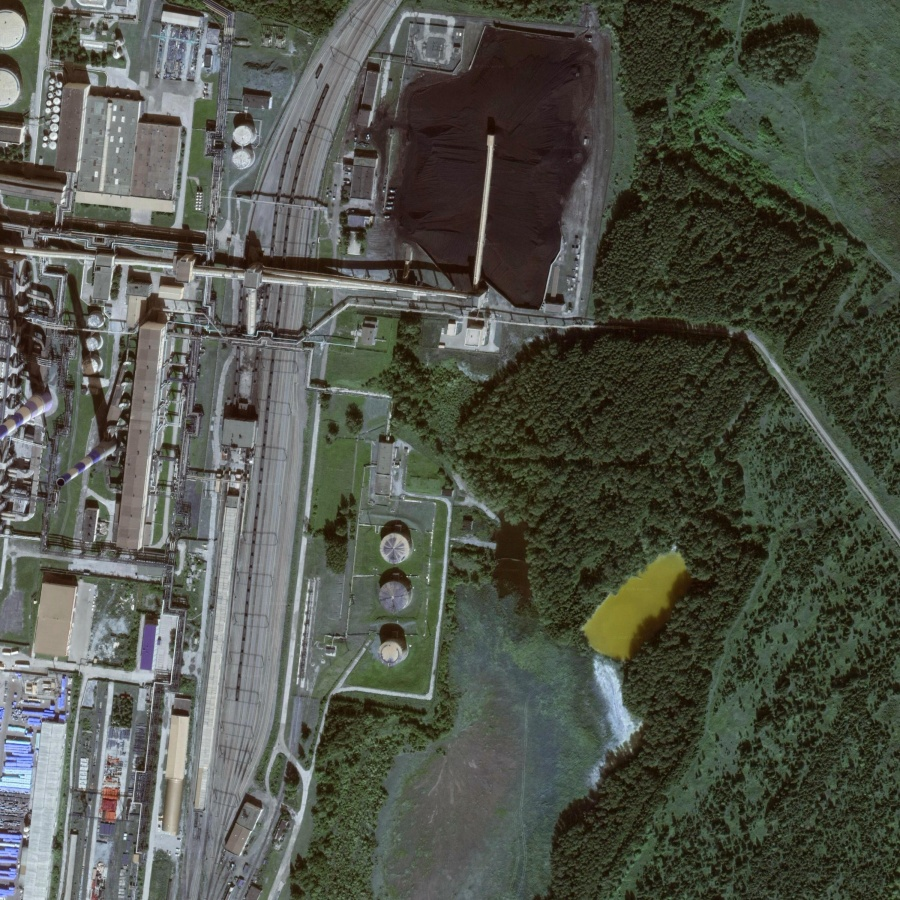PowerPlant: (327, 4, 597, 319), (301, 506, 449, 681)
